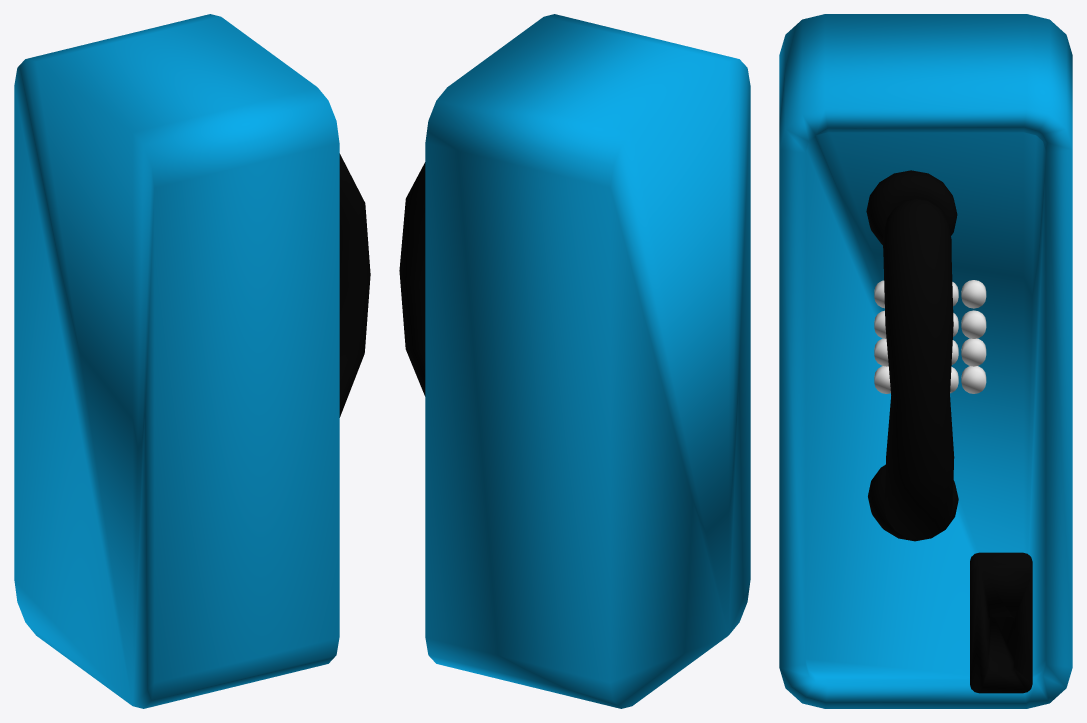
Rendered from Pay Phone.fbx.
The picture shows the model from 3 angles, left to right: view 1: azimuth 30°, elevation 25°; view 2: azimuth 150°, elevation 25°; view 3: azimuth 270°, elevation 25°; orthographic projection. The views are drawn at different scales.
Parts seen in each view (by area): view 1: Cylinder.006, Cylinder.003; view 2: Cylinder.006, Cylinder.003; view 3: Cylinder.006, Cylinder.003.
Boxes of the visible parts, x1,y1,x2,y2 form: Cylinder.006: (14, 14, 339, 708); Cylinder.003: (339, 153, 370, 417); Cylinder.006: (425, 14, 750, 708); Cylinder.003: (399, 162, 425, 396); Cylinder.006: (779, 14, 1072, 708); Cylinder.003: (866, 170, 958, 541).
Size of the model in its own units: 194 by 380 by 168.
